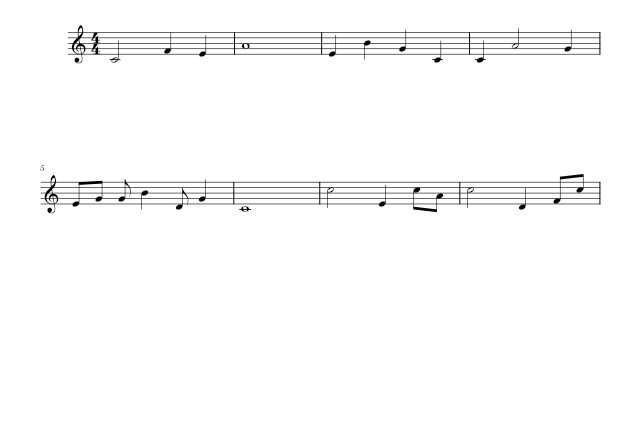Treble Clef: (68, 21, 89, 68), (41, 173, 62, 218)
